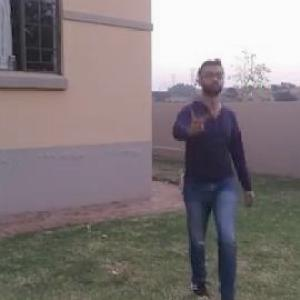takeoff-hand: (182, 107, 209, 140)
